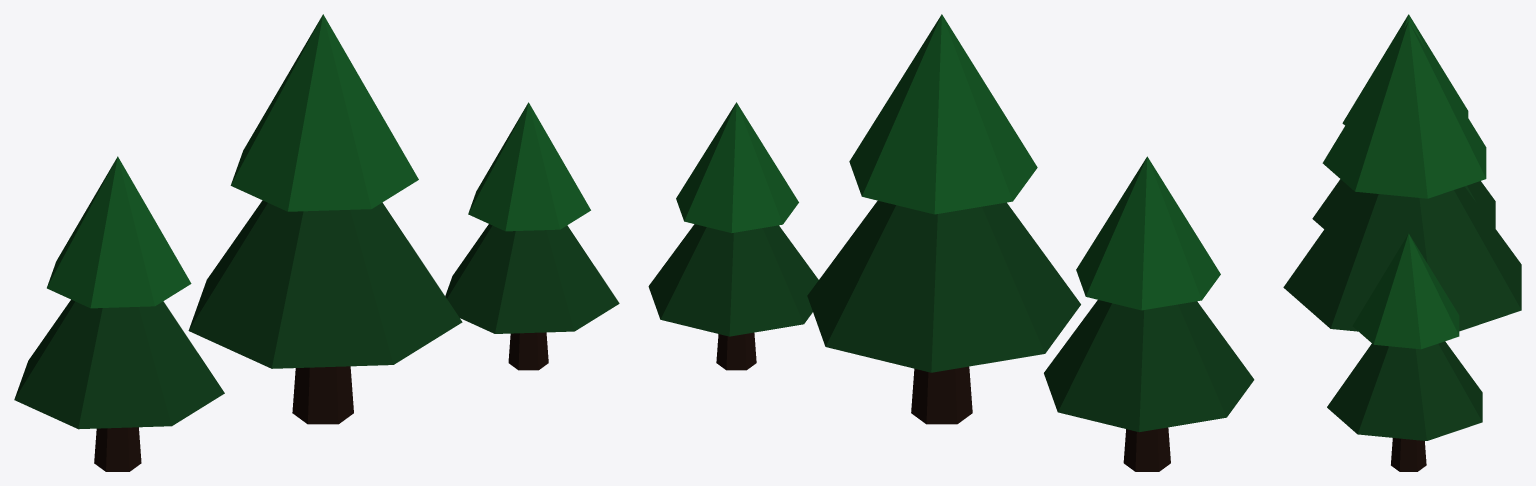
The model's file is lowpoly-pine-forest.glb.
3 renders of one model, left to right at view 1: azimuth 30°, elevation 25°; view 2: azimuth 150°, elevation 25°; view 3: azimuth 270°, elevation 25°, orthographic. The views are drawn at different scales.
Parts seen in each view (by area): view 1: Crown low 2, Crown top 2, Crown low 1, Crown low 3, Crown top 1, Crown top 3, Trunk 2, Trunk 1, Trunk 3; view 2: Crown low 2, Crown top 2, Crown low 1, Crown low 3, Crown top 1, Crown top 3, Trunk 2, Trunk 1, Trunk 3; view 3: Crown low 2, Crown top 2, Crown low 3, Crown top 3, Crown low 1, Trunk 3, Crown top 1.
Part boxes in pixels (bbox=[...]): Crown low 2: bbox=[188, 200, 462, 368]; Crown top 2: bbox=[230, 14, 418, 211]; Crown low 1: bbox=[14, 299, 224, 429]; Crown low 3: bbox=[445, 224, 619, 333]; Crown top 1: bbox=[47, 156, 191, 308]; Crown top 3: bbox=[468, 102, 590, 231]; Trunk 2: bbox=[292, 366, 353, 424]; Trunk 1: bbox=[94, 427, 141, 471]; Trunk 3: bbox=[508, 332, 548, 370]; Crown low 2: bbox=[807, 200, 1080, 372]; Crown top 2: bbox=[849, 14, 1037, 214]; Crown low 1: bbox=[1044, 300, 1254, 432]; Crown low 3: bbox=[648, 224, 818, 336]; Crown top 1: bbox=[1076, 156, 1220, 310]; Crown top 3: bbox=[676, 102, 798, 232]; Trunk 2: bbox=[911, 366, 972, 424]; Trunk 1: bbox=[1123, 427, 1170, 471]; Trunk 3: bbox=[716, 332, 756, 370]; Crown low 2: bbox=[1283, 186, 1521, 331]; Crown top 2: bbox=[1322, 21, 1486, 198]; Crown low 3: bbox=[1327, 341, 1482, 440]; Crown top 3: bbox=[1352, 233, 1459, 349]; Crown low 1: bbox=[1312, 179, 1495, 229]; Trunk 3: bbox=[1391, 438, 1426, 471]; Crown top 1: bbox=[1342, 14, 1468, 125].
Size of the model in its own units: 1.98 by 1.3 by 0.7908.
